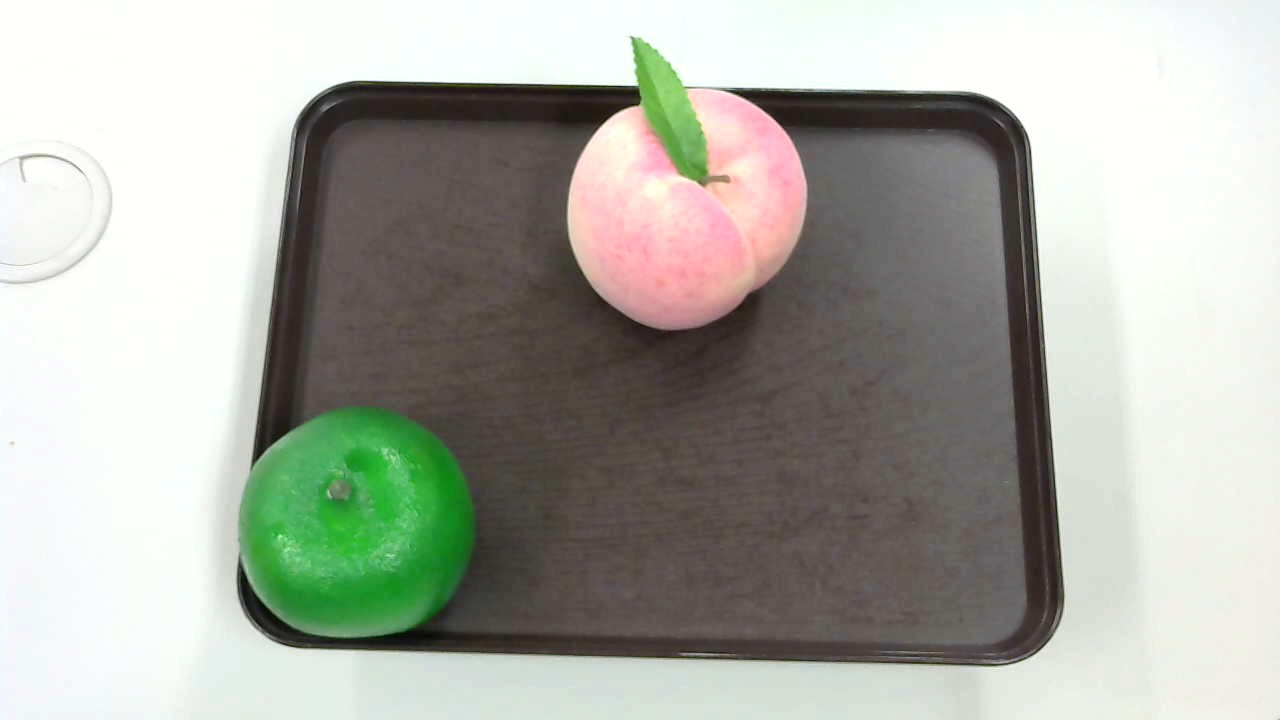green orange: (240, 405, 479, 632)
peach: (565, 37, 809, 342)
